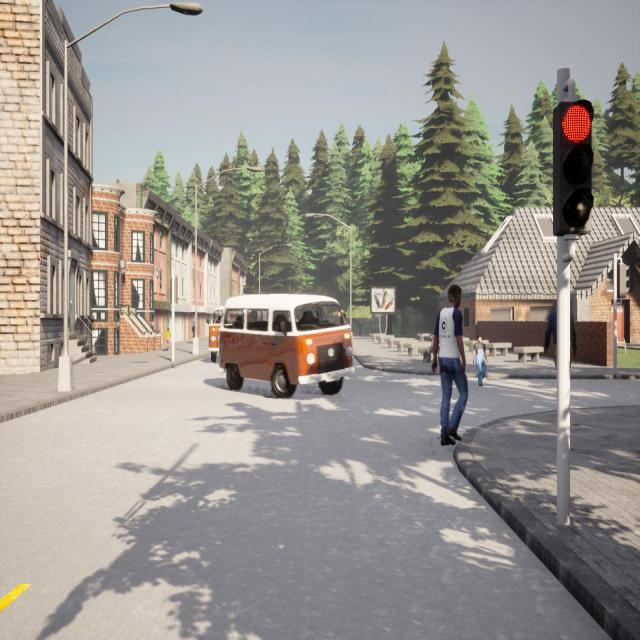Pedestrian: (430, 282, 470, 446), (543, 310, 579, 370), (471, 332, 489, 388), (164, 326, 172, 351), (191, 313, 195, 339), (358, 319, 362, 335)
Traffic_Signs: (338, 309, 344, 317)
Vehicle: (219, 294, 354, 397), (208, 306, 225, 364)
traffic_light: (553, 100, 594, 236), (616, 264, 632, 298), (170, 276, 178, 304)
